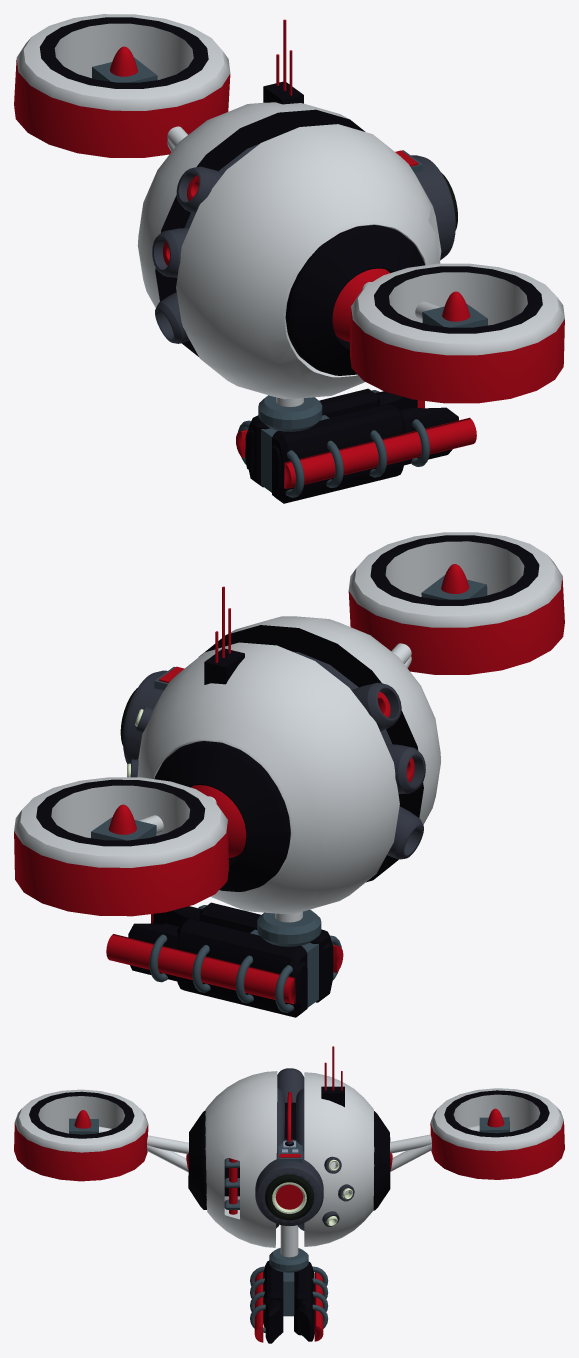
Rendered from fixed_TK_art_olivia_enemy_lvl_02.fbx.
3 views of the same model, one above another, from view 1: azimuth 30°, elevation 25°; view 2: azimuth 150°, elevation 25°; view 3: azimuth 270°, elevation 25° (orthographic). The views are drawn at different scales.
Parts seen in each view (by area): view 1: polySurface28, polySurface86, polySurface81, polySurface27, polySurface43, polySurface67, polySurface73, pCylinder15, polySurface69, pCylinder3, polySurface66, polySurface42 (+10 smaller); view 2: polySurface27, polySurface81, polySurface86, polySurface28, polySurface45, polySurface69, polySurface78, polySurface67, polySurface68, pCylinder3, pCylinder15, pPipe10 (+10 smaller); view 3: polySurface81, polySurface86, polySurface28, polySurface27, pCylinder15, polySurface43, polySurface45, pTorus10, pPipe5, polySurface67, polySurface69, pCylinder3 (+14 smaller).
Part boxes in pixels (left/top/right/bottom): polySurface28: left=176, top=124, right=441, bottom=399; polySurface86: left=350, top=263, right=564, bottom=403; polySurface81: left=14, top=14, right=230, bottom=157; polySurface27: left=137, top=102, right=365, bottom=356; polySurface43: left=285, top=225, right=424, bottom=375; polySurface67: left=272, top=403, right=405, bottom=503; polySurface73: left=284, top=417, right=476, bottom=488; pCylinder15: left=411, top=155, right=455, bottom=260; polySurface69: left=249, top=388, right=379, bottom=487; pCylinder3: left=258, top=395, right=322, bottom=431; polySurface66: left=272, top=407, right=458, bottom=493; polySurface42: left=332, top=268, right=389, bottom=341; polySurface27: left=137, top=642, right=399, bottom=914; polySurface81: left=14, top=777, right=228, bottom=916; polySurface86: left=348, top=532, right=564, bottom=674; polySurface28: left=199, top=616, right=440, bottom=882; polySurface45: left=154, top=741, right=290, bottom=891; polySurface69: left=177, top=918, right=307, bottom=1017; polySurface78: left=106, top=934, right=295, bottom=1004; polySurface67: left=199, top=902, right=333, bottom=1002; polySurface68: left=128, top=923, right=305, bottom=1008; pCylinder3: left=257, top=909, right=321, bottom=946; pCylinder15: left=123, top=670, right=167, bottom=764; pPipe10: left=351, top=682, right=401, bottom=731; polySurface81: left=430, top=1088, right=564, bottom=1179; polySurface86: left=14, top=1089, right=148, bottom=1181; polySurface28: left=205, top=1071, right=277, bottom=1247; polySurface27: left=304, top=1072, right=374, bottom=1246; pCylinder15: left=255, top=1139, right=323, bottom=1226; polySurface43: left=188, top=1110, right=239, bottom=1209; polySurface45: left=373, top=1111, right=390, bottom=1210; pTorus10: left=276, top=1088, right=304, bottom=1230; pPipe5: left=265, top=1174, right=313, bottom=1220; polySurface67: left=263, top=1260, right=283, bottom=1335; polySurface69: left=294, top=1262, right=314, bottom=1335; pCylinder3: left=269, top=1248, right=308, bottom=1272.
Size of the model in its own units: 3.25 by 4.68 by 8.65.
